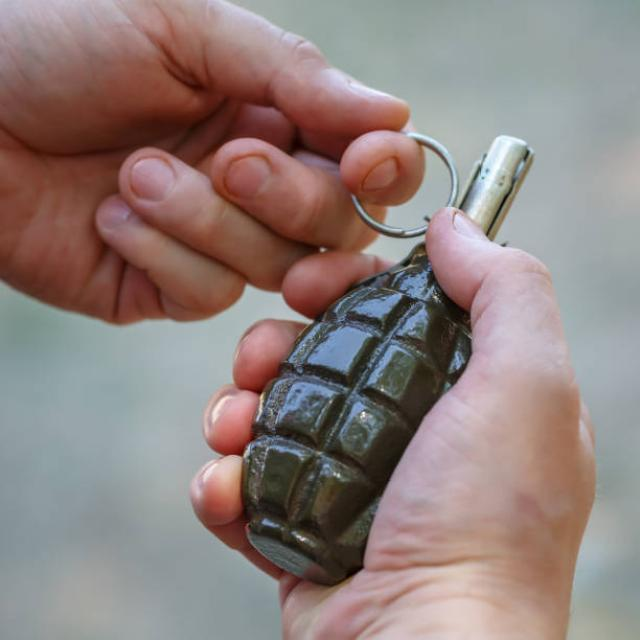grenade: (237, 124, 540, 597)
